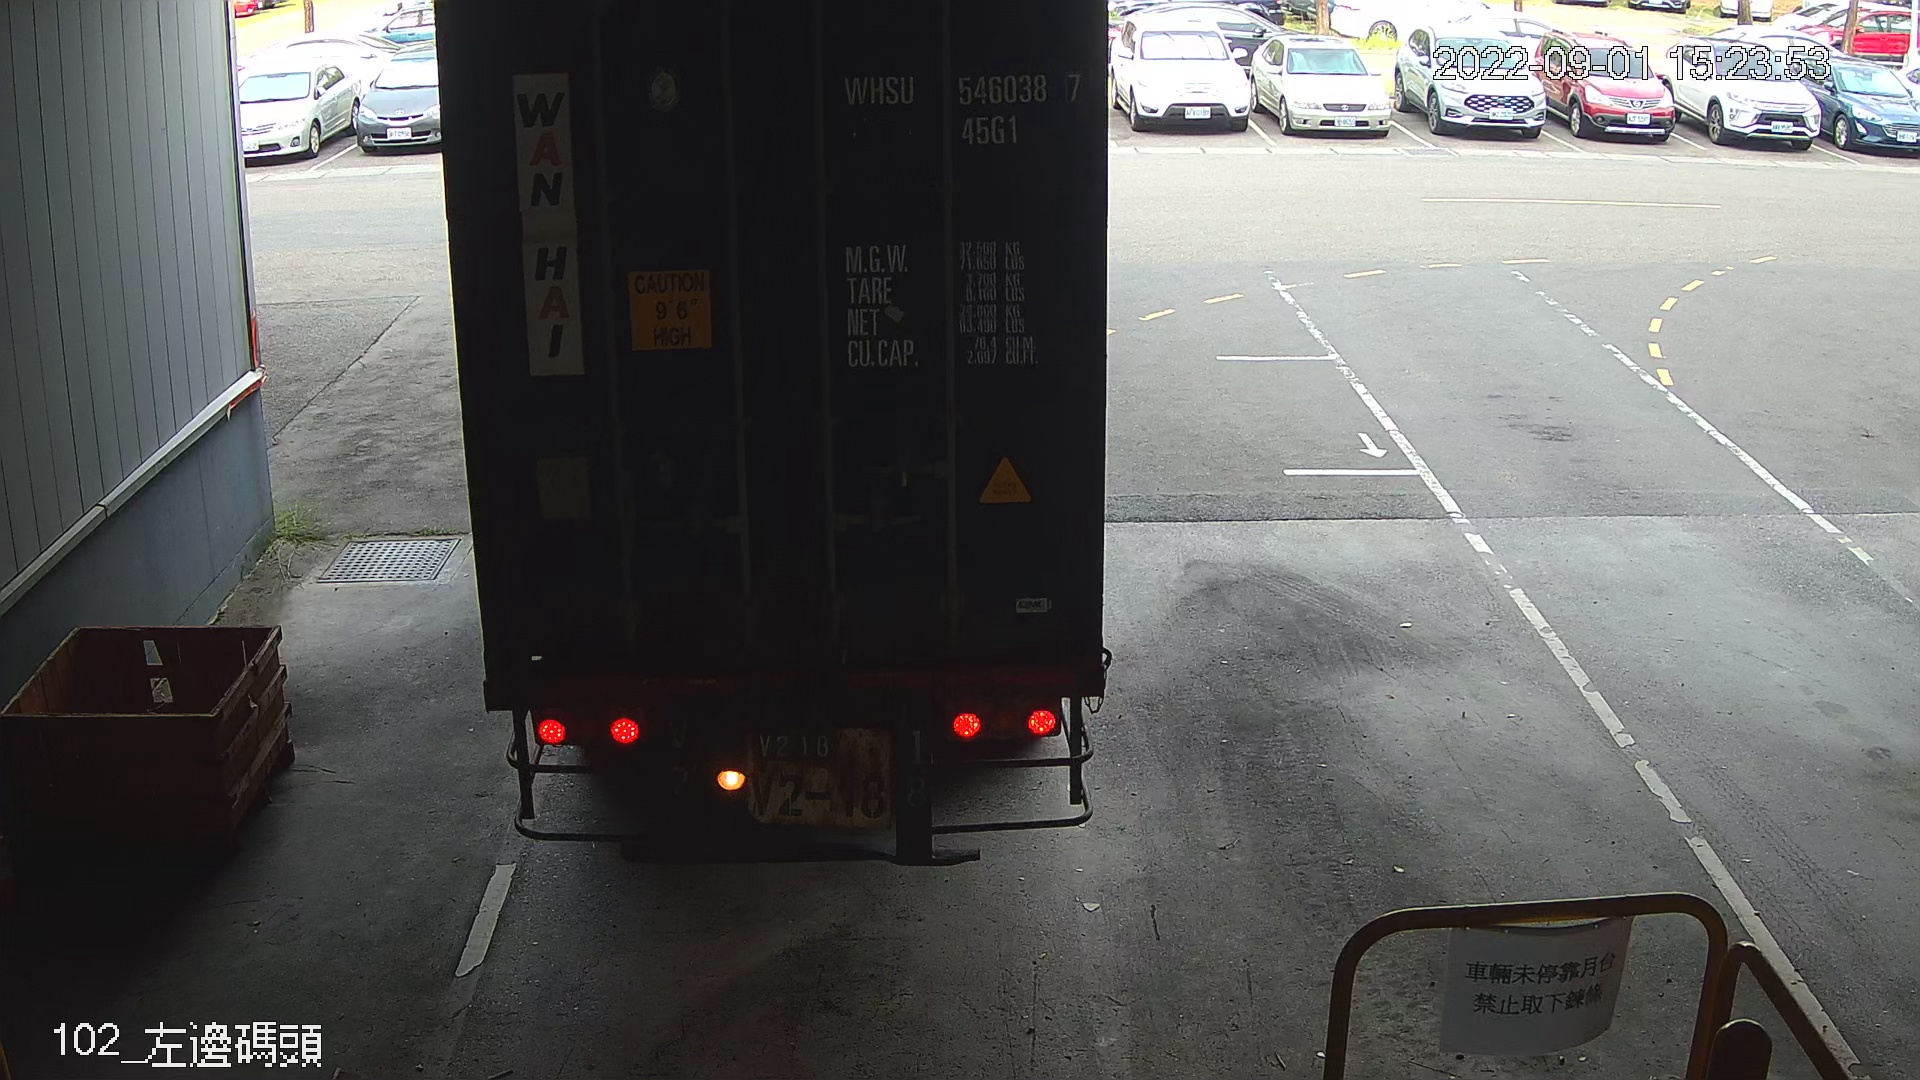container: (832, 58, 1095, 160)
